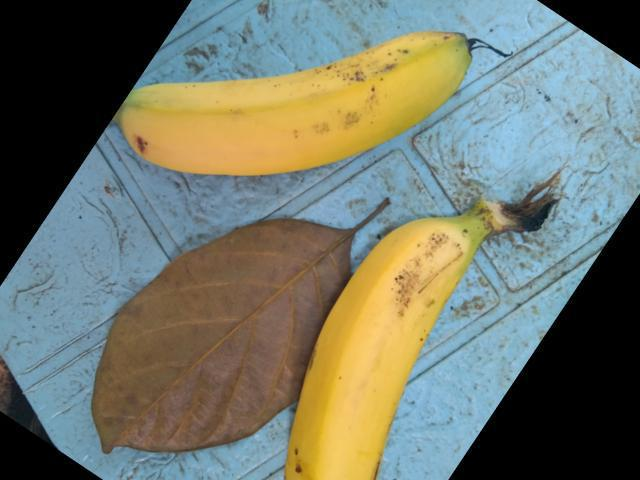freshripe: (263, 246, 483, 479)
ripe: (113, 20, 475, 186)
